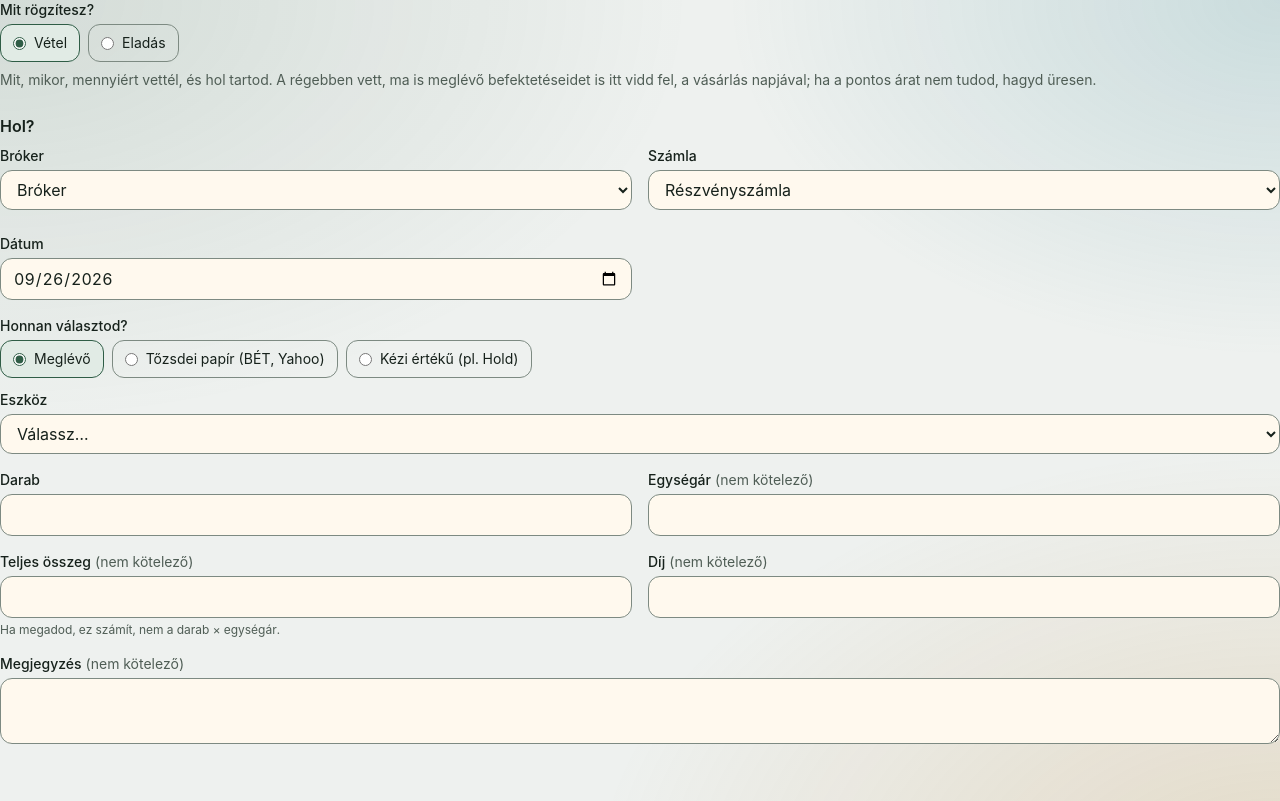
Test: EntryForm – Vétel and Eladás (4c plan §2, without the Mai állomány tab since 2026-09-27) › a BÉT hit of a paper already there – as a BÉT paper or as its .BD Yahoo symbol – is that instrument
This screenshot has width=1280, height=801.
Click the radio button labelled "Tőzsdei papír (BÉT, Yahoo)".
click(131, 359)  # box x1=125 y1=352 x2=138 y2=366
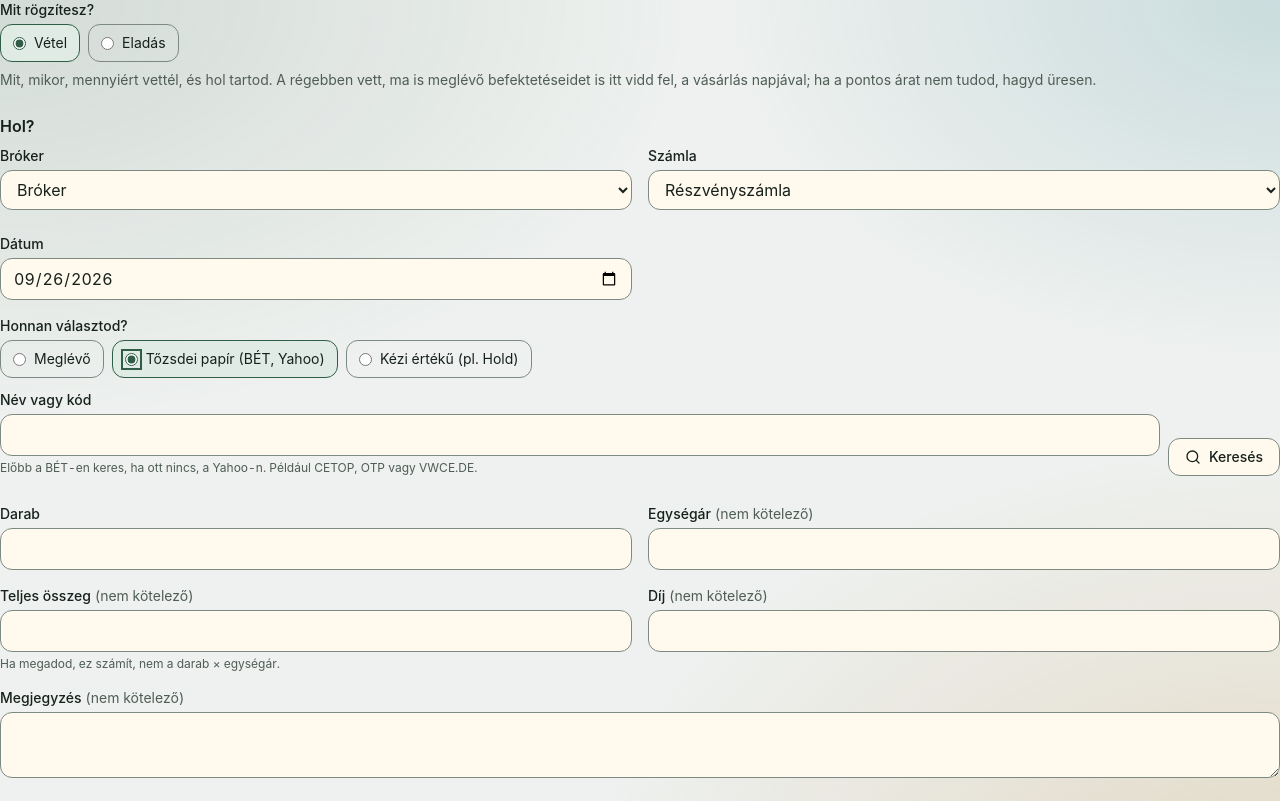
Type "otp" into the field labelled "Név vagy kód".
click(580, 435); type("otp")  # box x1=0 y1=414 x2=1160 y2=456
Then press Enter
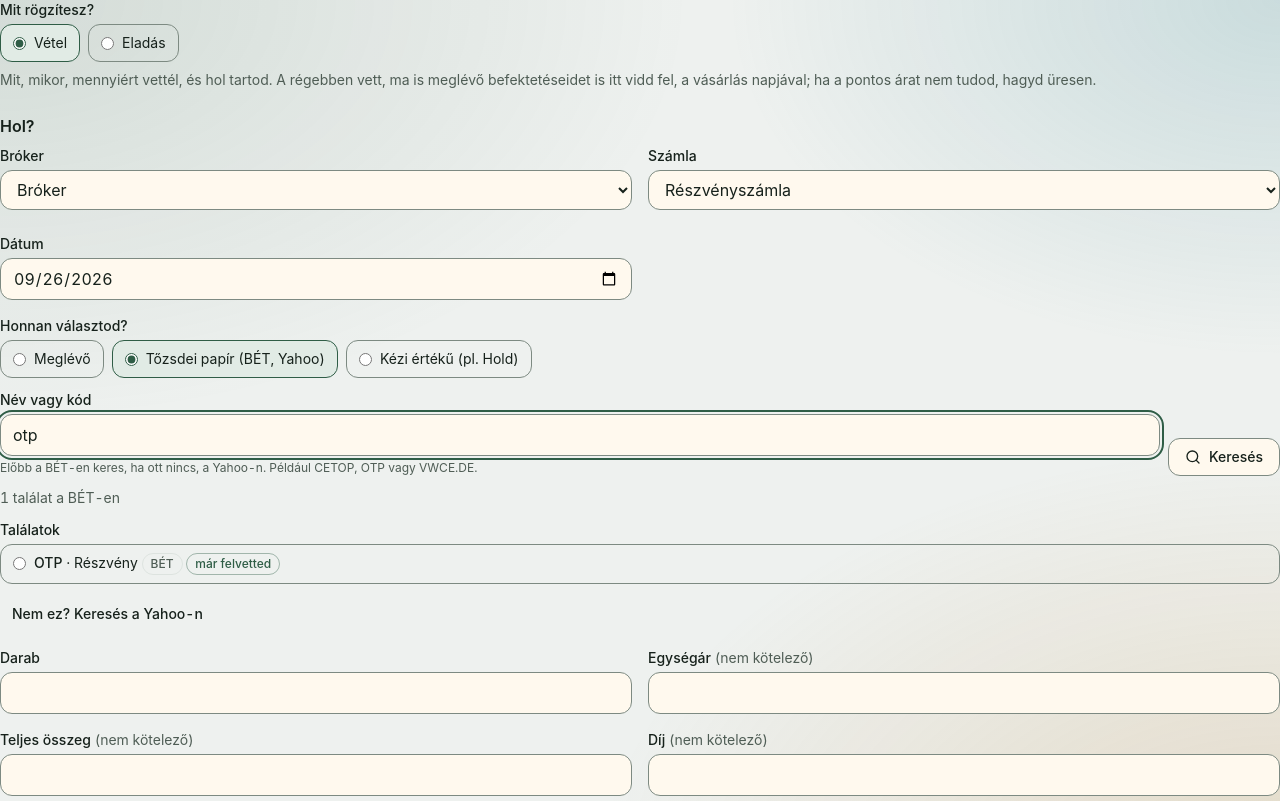
Now the text "már felvetted" is shown, box x1=186 y1=553 x2=280 y2=575
Click the radio button labelled "OTP · Részvény BÉT már felvetted".
click(20, 564)  # box x1=13 y1=557 x2=26 y2=570
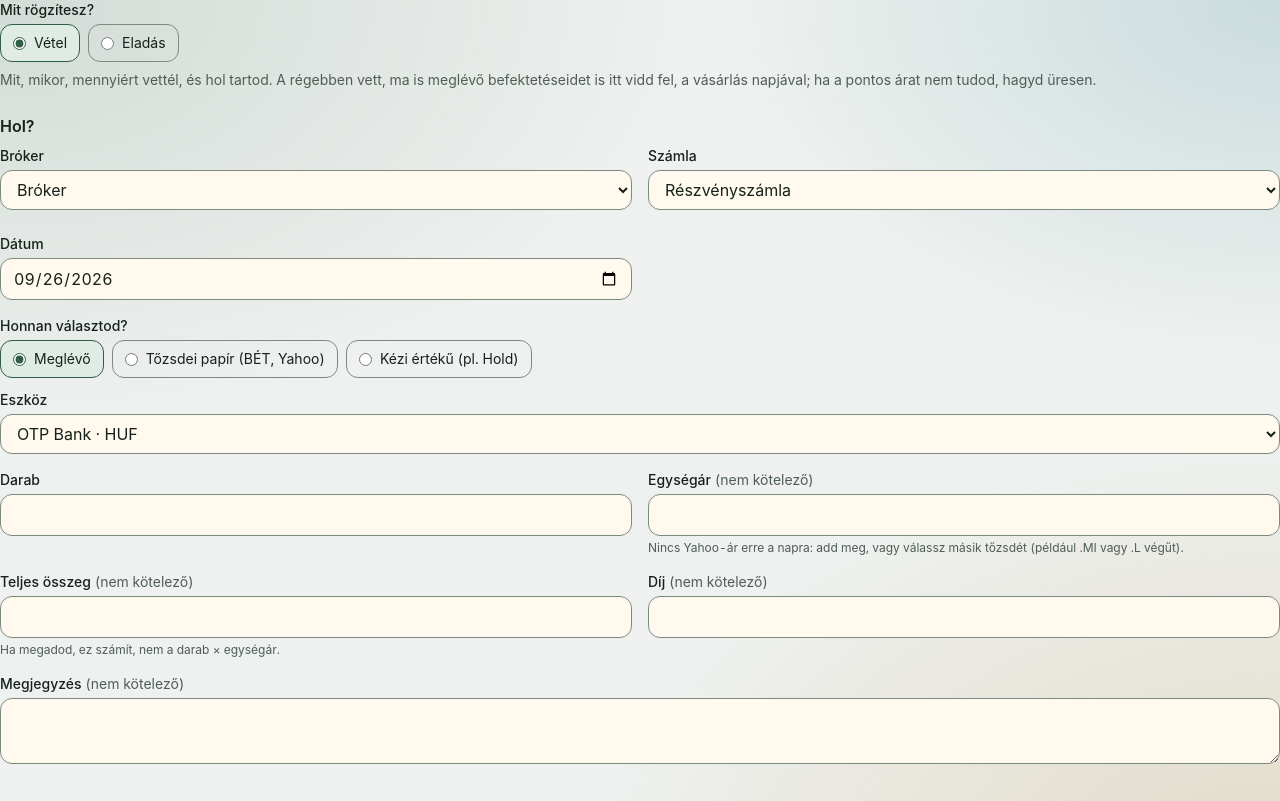
Now the dropdown labelled "Eszköz" shows "OTP Bank · HUF", box x1=0 y1=414 x2=1279 y2=454
Click the radio button labelled "Tőzsdei papír (BÉT, Yahoo)".
click(131, 359)  # box x1=125 y1=352 x2=138 y2=366
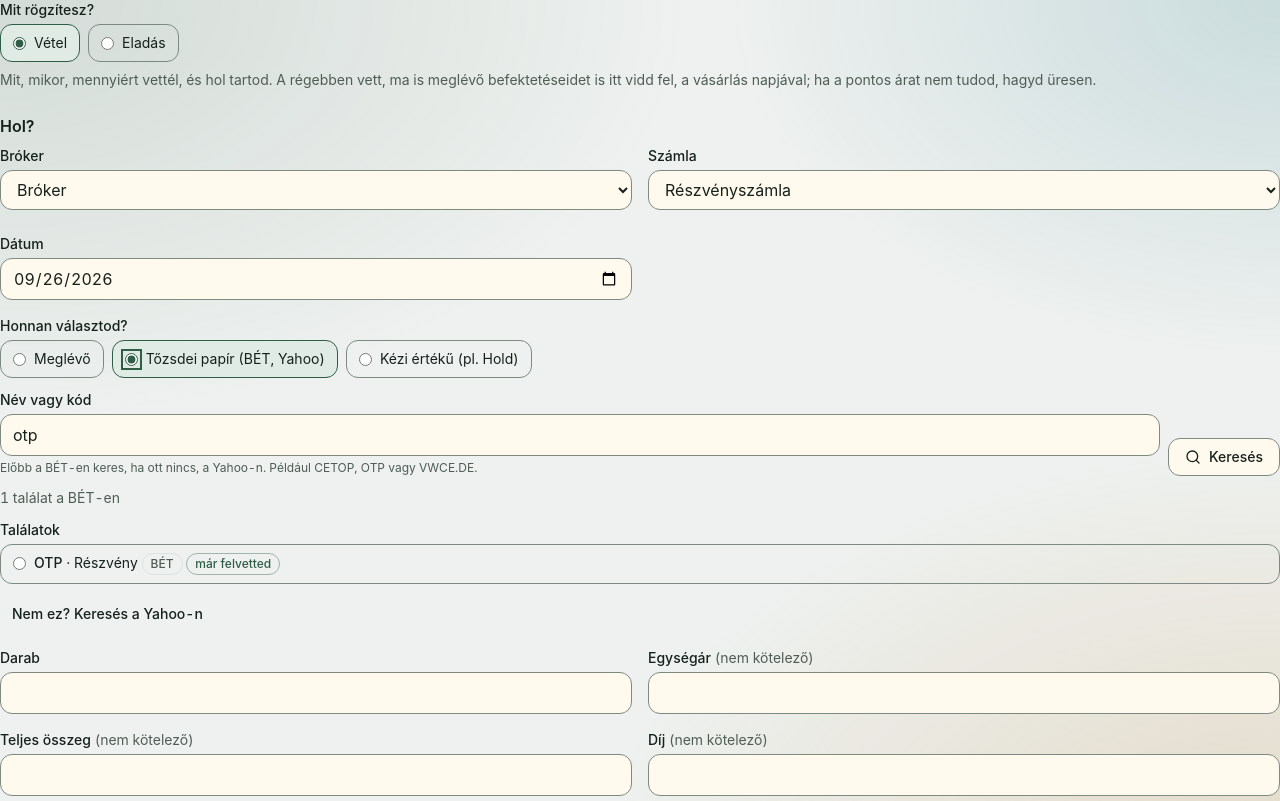
Replace the text in the field labelled "Név vagy kód" with "richter" at (580, 435), box x1=0 y1=414 x2=1160 y2=456
Then press Enter
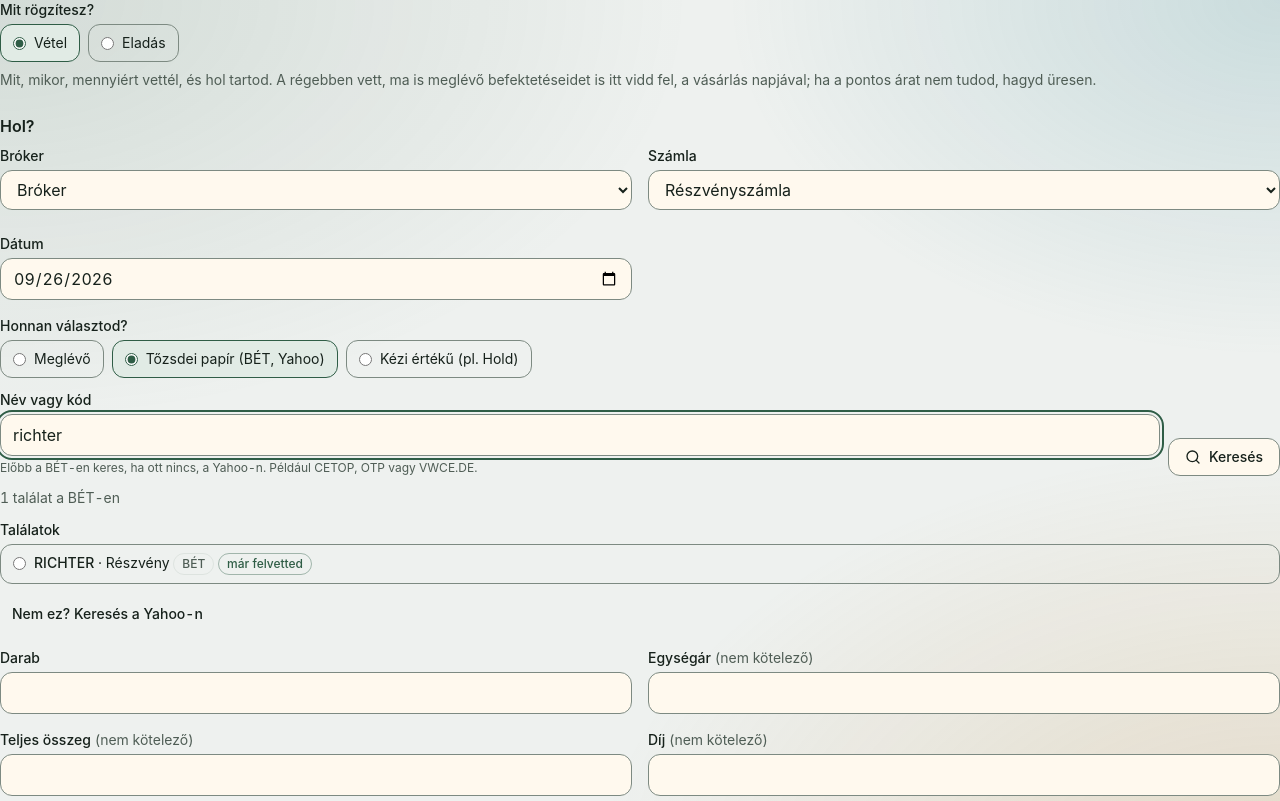
Now the text "már felvetted" is shown, box x1=218 y1=553 x2=312 y2=575
Click the radio button labelled "RICHTER · Részvény BÉT már felvetted".
click(20, 564)  # box x1=13 y1=557 x2=26 y2=570
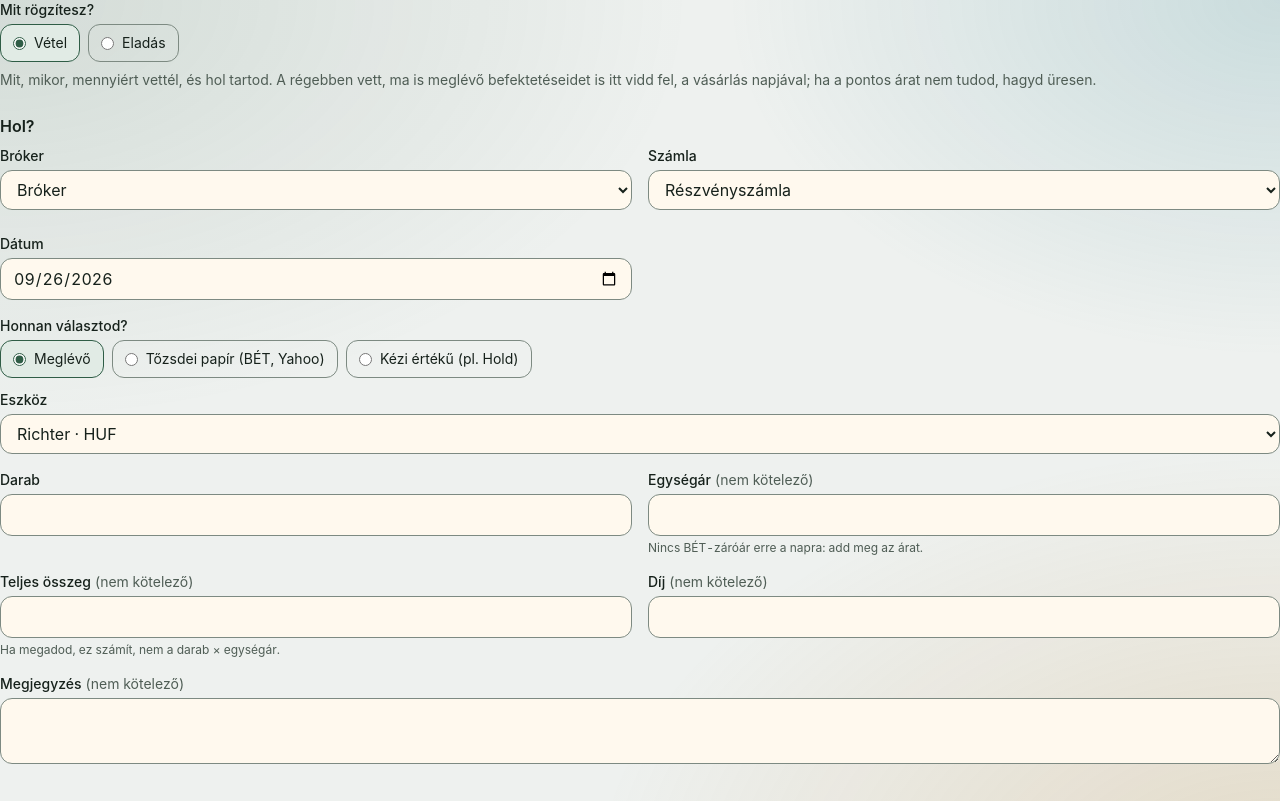
Now the dropdown labelled "Eszköz" shows "Richter · HUF", box x1=0 y1=414 x2=1279 y2=454
